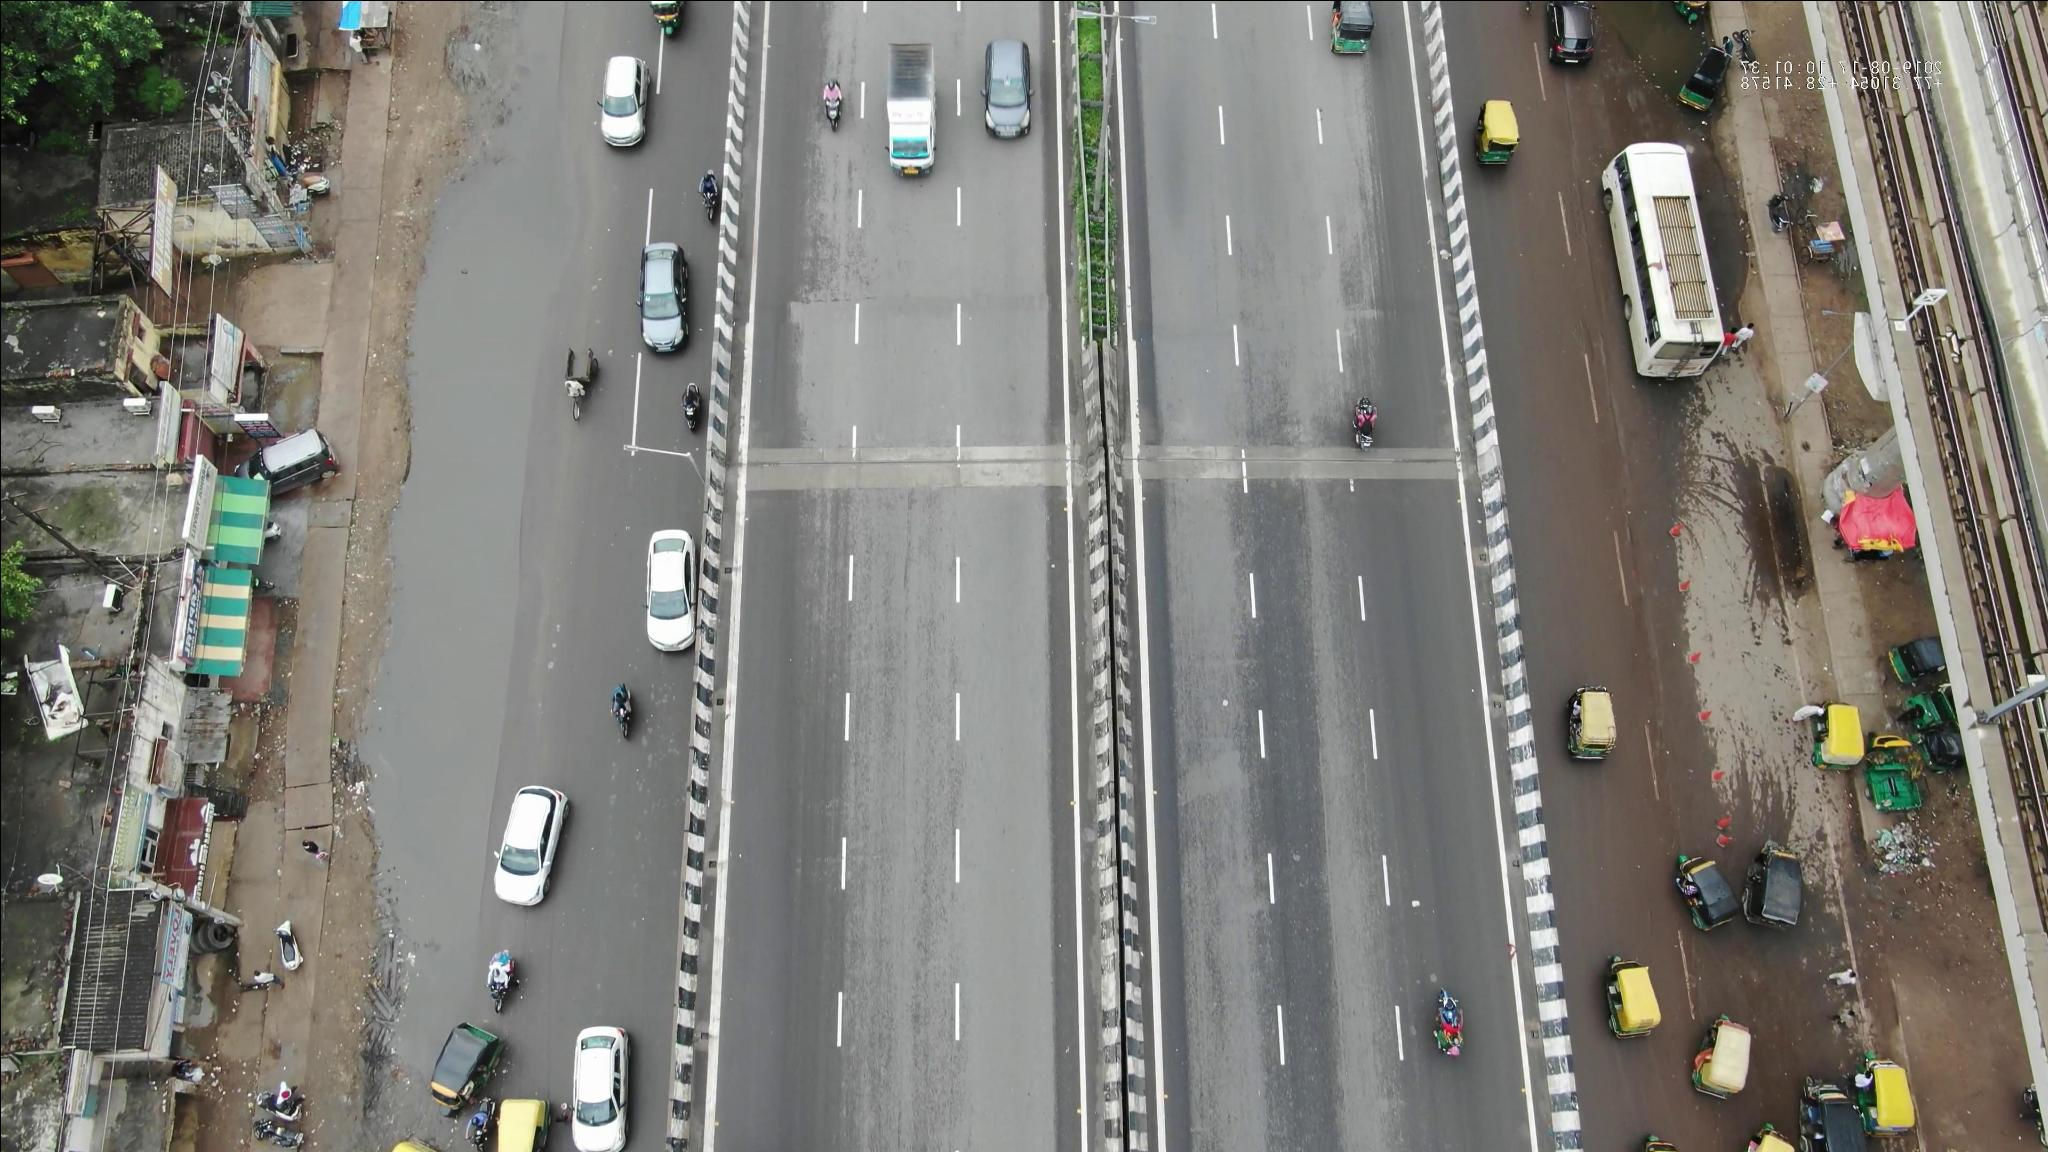Muddy_road: (1530, 425, 1687, 655), (1504, 255, 1612, 409), (1606, 761, 1699, 859)
Waterlogging: (377, 174, 563, 754), (1608, 30, 1698, 86), (1713, 210, 1748, 302)
